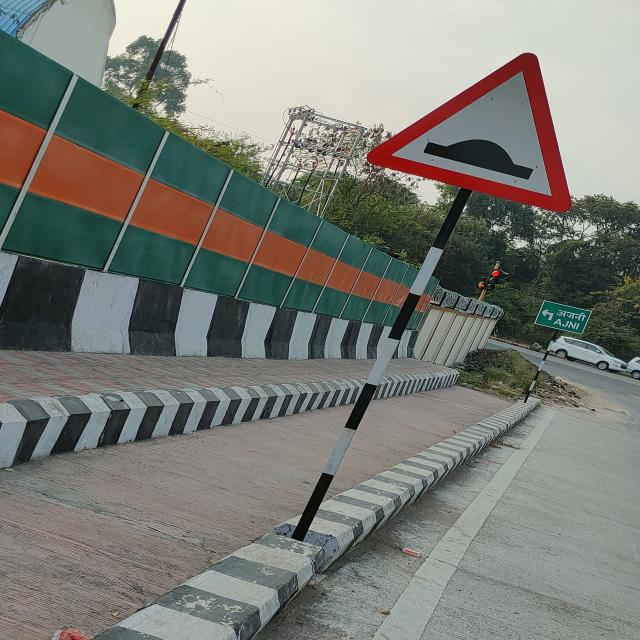HUMP_OR_ROUGH_ROAD: (366, 54, 570, 212)
